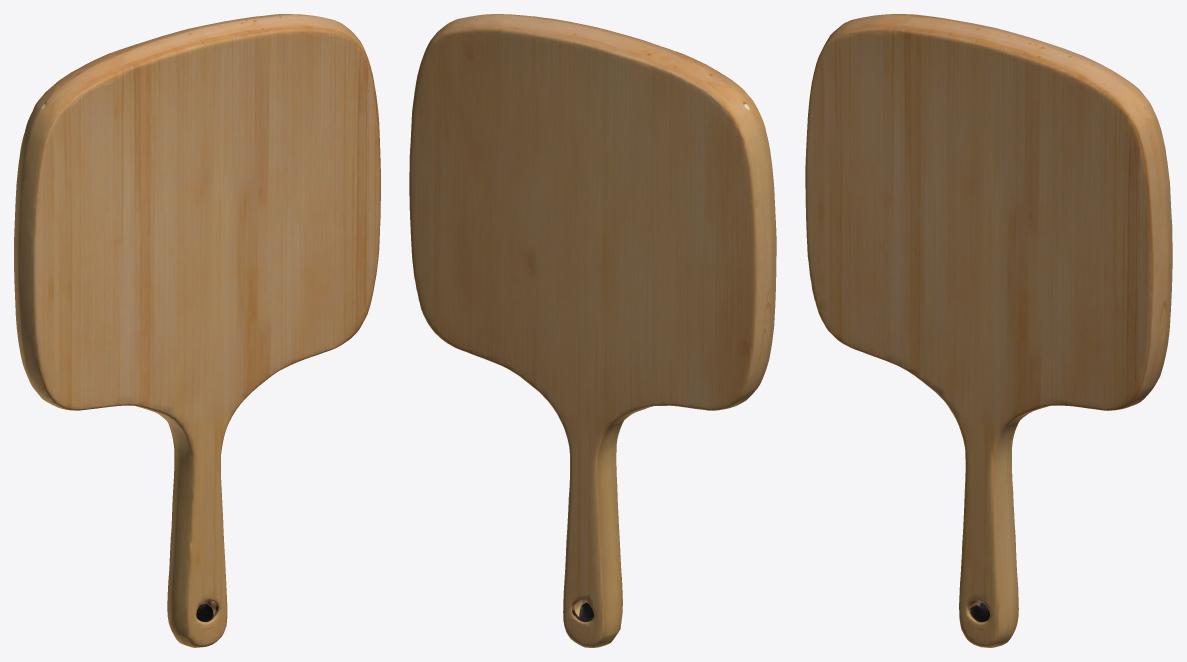
The model's file is pizza_peel_0421202301_texture.fbx.
3 views of the same model, side by side, from view 1: azimuth 30°, elevation 25°; view 2: azimuth 150°, elevation 25°; view 3: azimuth 330°, elevation 25° (orthographic).
Parts seen in each view (by area): view 1: Mesh_0; view 2: Mesh_0; view 3: Mesh_0.
Part boxes in pixels (x1=…): Mesh_0: x1=14, y1=14, x2=380, y2=647; Mesh_0: x1=409, y1=14, x2=776, y2=647; Mesh_0: x1=805, y1=14, x2=1172, y2=647.
Size of the model in its own units: 121 by 200 by 12.51.
1 material, 1 textured.
